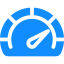

This screenshot's page, from the dashboard's own definition file:
{"tool":"powerbi","page":{"name":"Description-Category-Wise","canvas":[1280,800],"ordinal":7},"visuals":[{"type":"shape","box":[0,0,248.8,800],"z":0},{"type":"textbox","box":[65,24,146,45],"z":1000},{"type":"image","box":[20,18,44,46],"z":2000},{"type":"textbox","box":[280,15,987.5,47.5],"z":3000},{"type":"shape","box":[222.6,23.5,40,40],"z":4000},{"type":"shape","box":[231.9,36.2,21.2,15],"z":5000},{"type":"actionButton","box":[20,84,203,40],"z":6000},{"type":"actionButton","box":[20,123,203,40],"z":7000},{"type":"actionButton","box":[20,158.8,202.5,40],"z":8000},{"type":"actionButton","box":[20,197.1,202.9,40],"z":9000},{"type":"slicer","title":"Most Expensive Country In World (Max 100 Choosed)","fields":{"Values":["cost-of-living.country"]},"box":[253.3,84.4,305.6,77.8],"z":10000},{"type":"slicer","title":"Most Expensive Country In World (Max 100 Choosed)","fields":{"Values":["cost-of-living.city"]},"box":[253.8,160,305,77.5],"z":11000},{"type":"columnChart","title":"Expenses Per Description","fields":{"Y":["Sum(cost-of-living.amount)"],"Category":["cost-of-living.expense"]},"box":[257.5,352.5,1013.8,410],"z":12000},{"type":"slicer","fields":{"Values":["Data Dictonary.Category"]},"box":[233.9,241,908.6,101.4],"z":13000},{"type":"actionButton","box":[1142.5,241,114.3,101.4],"z":14000},{"type":"slicer","title":"Most Expensive Country In World (Max 100 Choosed)","fields":{"Values":["Data Dictonary.Category","Data Dictonary.Description"]},"box":[568.8,85,687.5,141.2],"z":15000}]}

Visuals, with their boxes on the page's 1280x800 design canvas (x1, y1, x2, y2). These are canvas units, not pixel positions in the 64x64 screenshot, which may show the page scaled, cropped or inside an application window:
shape: box(0, 0, 249, 800)
textbox: box(65, 24, 211, 69)
image: box(20, 18, 64, 64)
textbox: box(280, 15, 1268, 62)
shape: box(223, 24, 263, 64)
shape: box(232, 36, 253, 51)
actionButton: box(20, 84, 223, 124)
actionButton: box(20, 123, 223, 163)
actionButton: box(20, 159, 222, 199)
actionButton: box(20, 197, 223, 237)
"Most Expensive Country In World (Max 100 Choosed)" slicer: box(253, 84, 559, 162)
"Most Expensive Country In World (Max 100 Choosed)" slicer: box(254, 160, 559, 238)
"Expenses Per Description" columnChart: box(258, 352, 1271, 762)
slicer - Data Dictonary.Category: box(234, 241, 1142, 342)
actionButton: box(1142, 241, 1257, 342)
"Most Expensive Country In World (Max 100 Choosed)" slicer: box(569, 85, 1256, 226)
